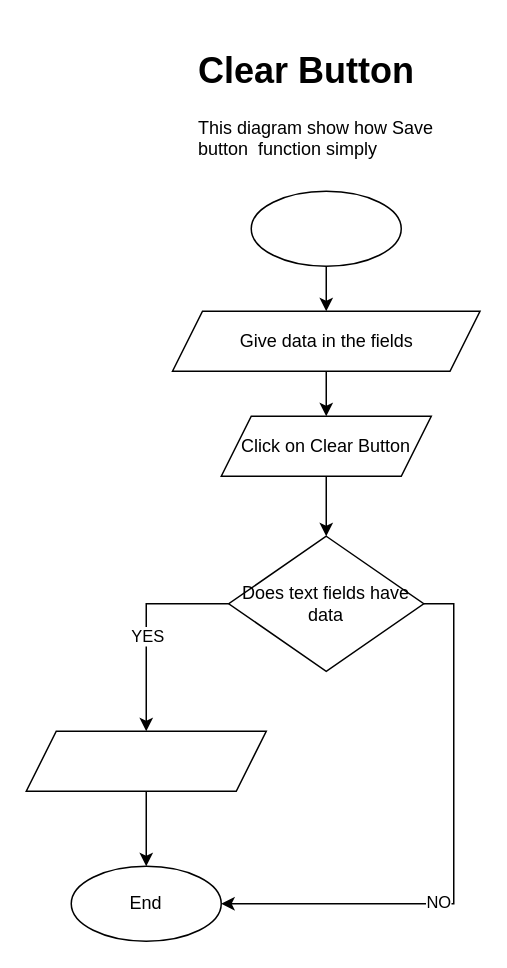
Image size: 507x968. Some labels were removed from this diagram. The shapes that lost their labels are listed below. From the top down, each one's centre as x and y in pixels, then its label:
(x=325, y=228): Start
(x=145, y=760): Clear the data in the fields
